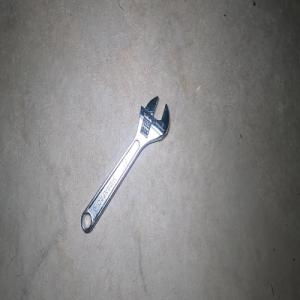Wrench: (80, 96, 169, 232)
